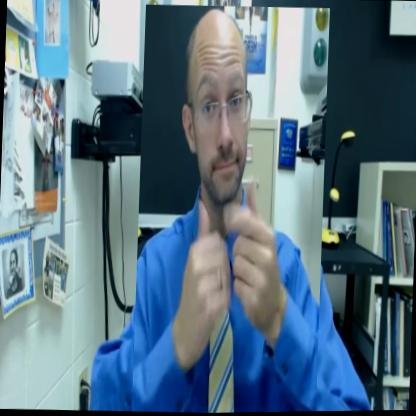HowAreYou: (132, 3, 330, 414)
